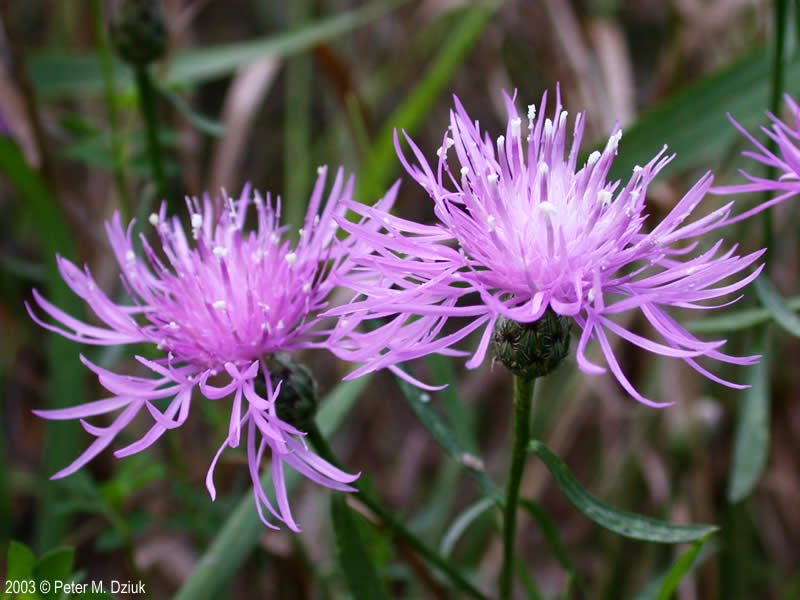thistle: (366, 86, 744, 424), (58, 195, 336, 466)
